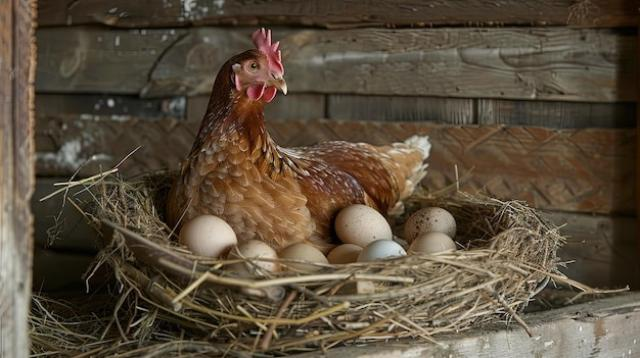Chicken: (166, 26, 433, 256)
